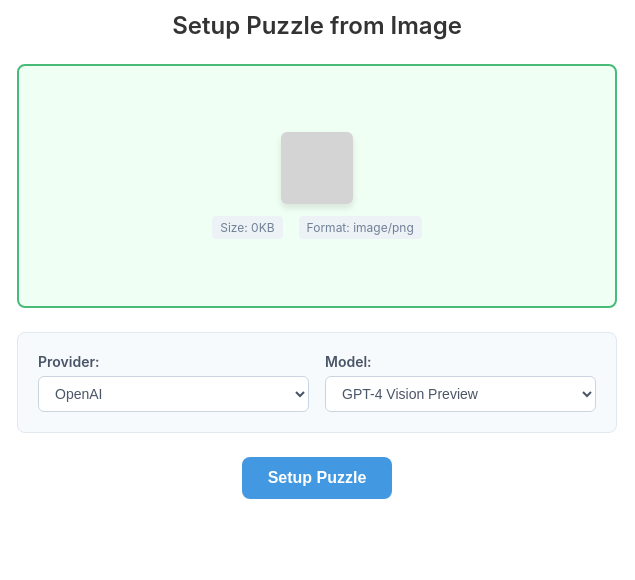
Test case: ImagePuzzleSetup - Error Handling › Backend Error Handling › displays error for HTTP 400 wrong word count
Click the button labelled "Setup Puzzle".
click(317, 478)  # box [242,457,392,499]
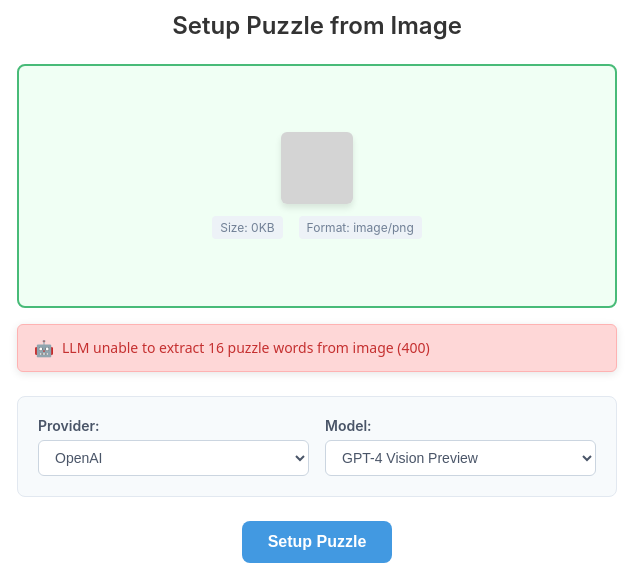
expect the text "🤖 LLM unable to extract 16 puzzle words from image (400)" is shown: met, box [17,324,617,372]
